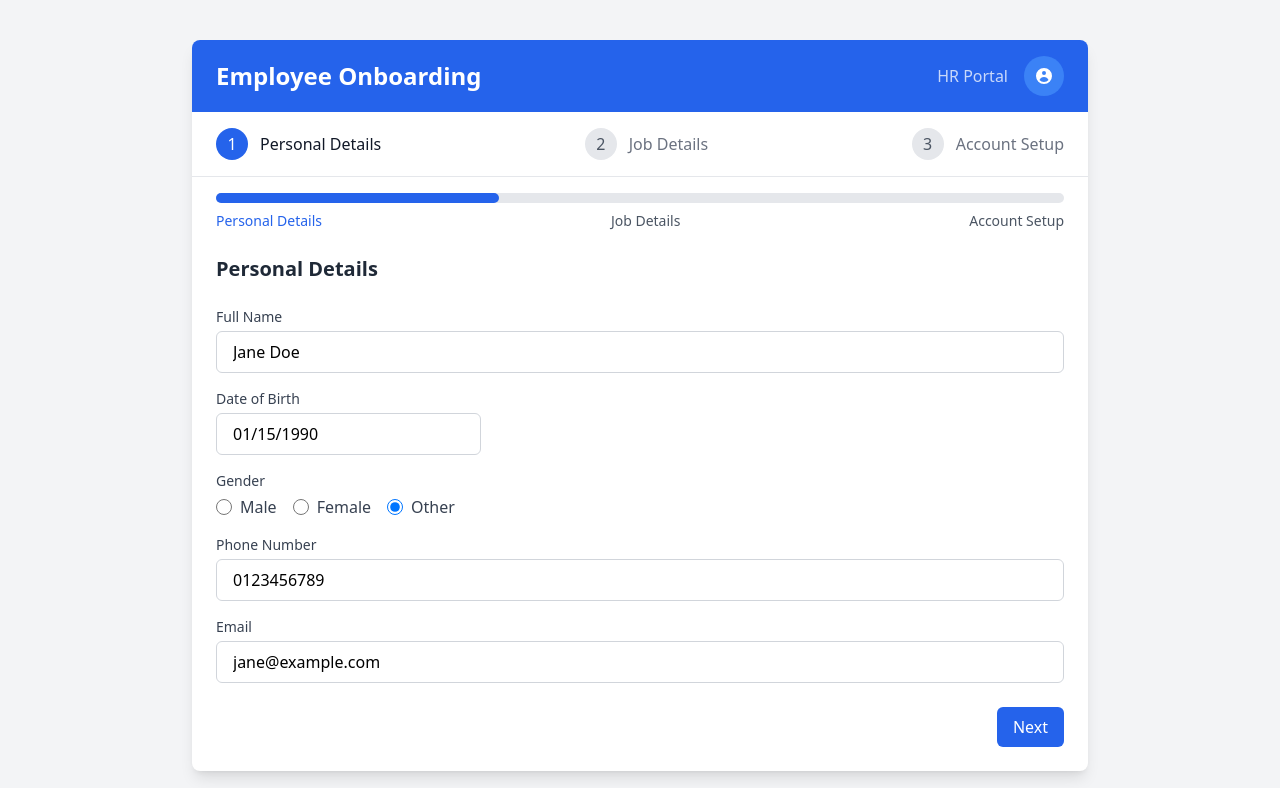
Test case: App submission › sends the account setup fields to the API along with the earlier steps
This screenshot has width=1280, height=788.
Click the button "Next" at (1030, 727), box left=997, top=707, right=1064, bottom=747
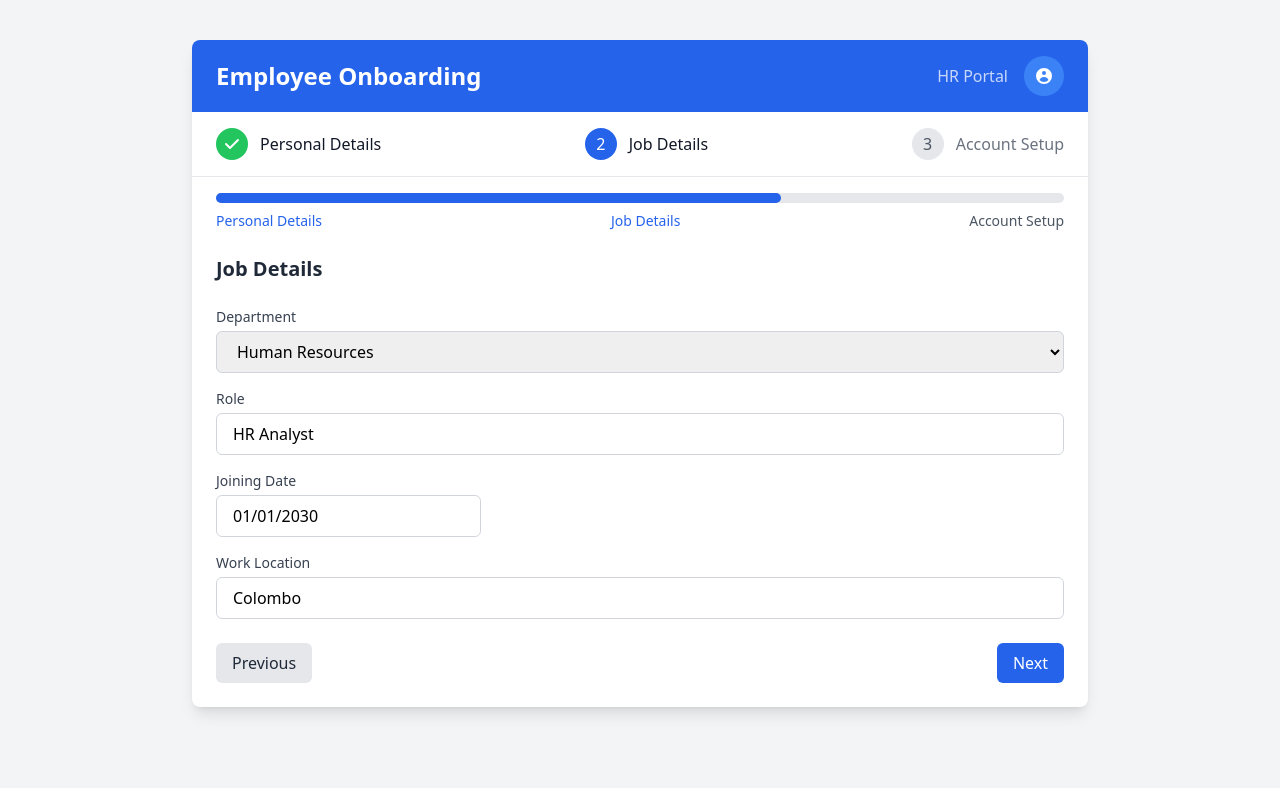
Result: the dropdown labelled "Department" is shown at left=216, top=331, right=1064, bottom=373
Click the button "Next" at (1030, 663), box left=997, top=643, right=1064, bottom=683
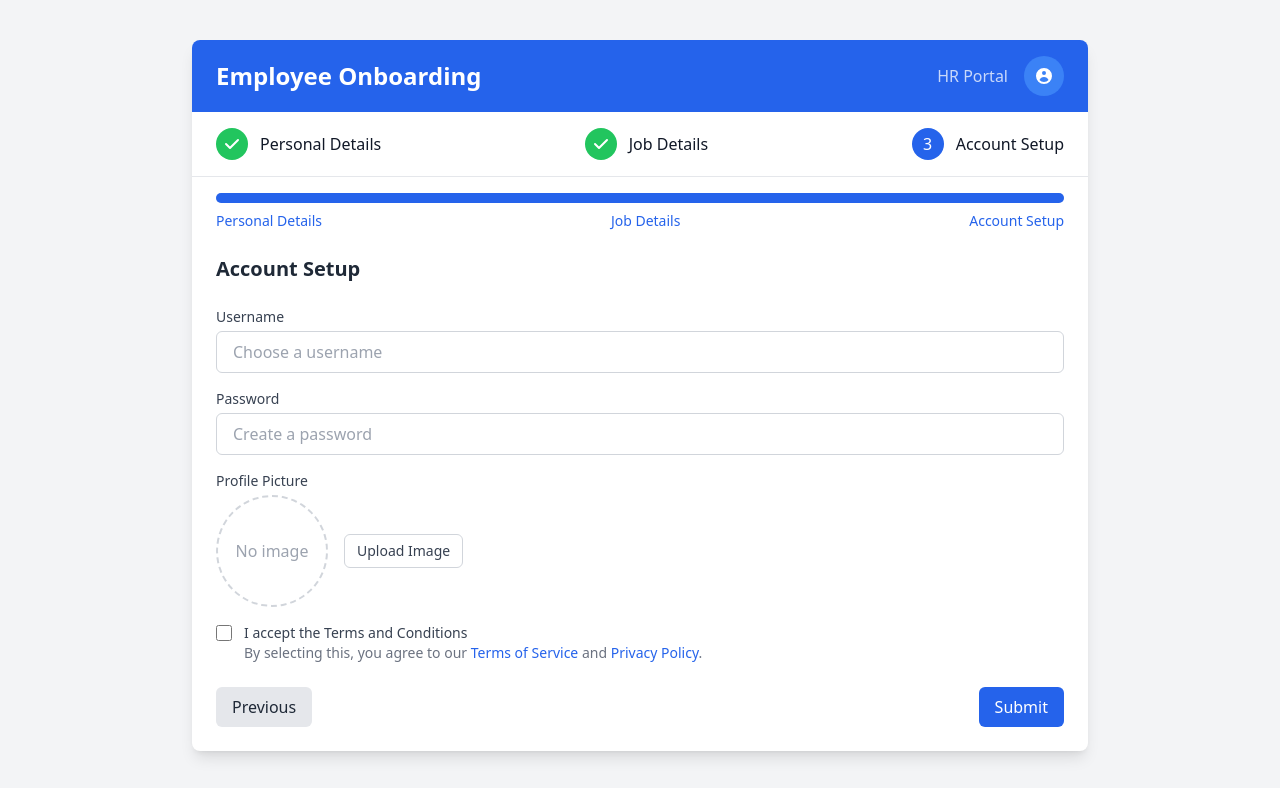
Type "jdoe1" into the field labelled "Username" at (640, 352), box left=216, top=331, right=1064, bottom=373
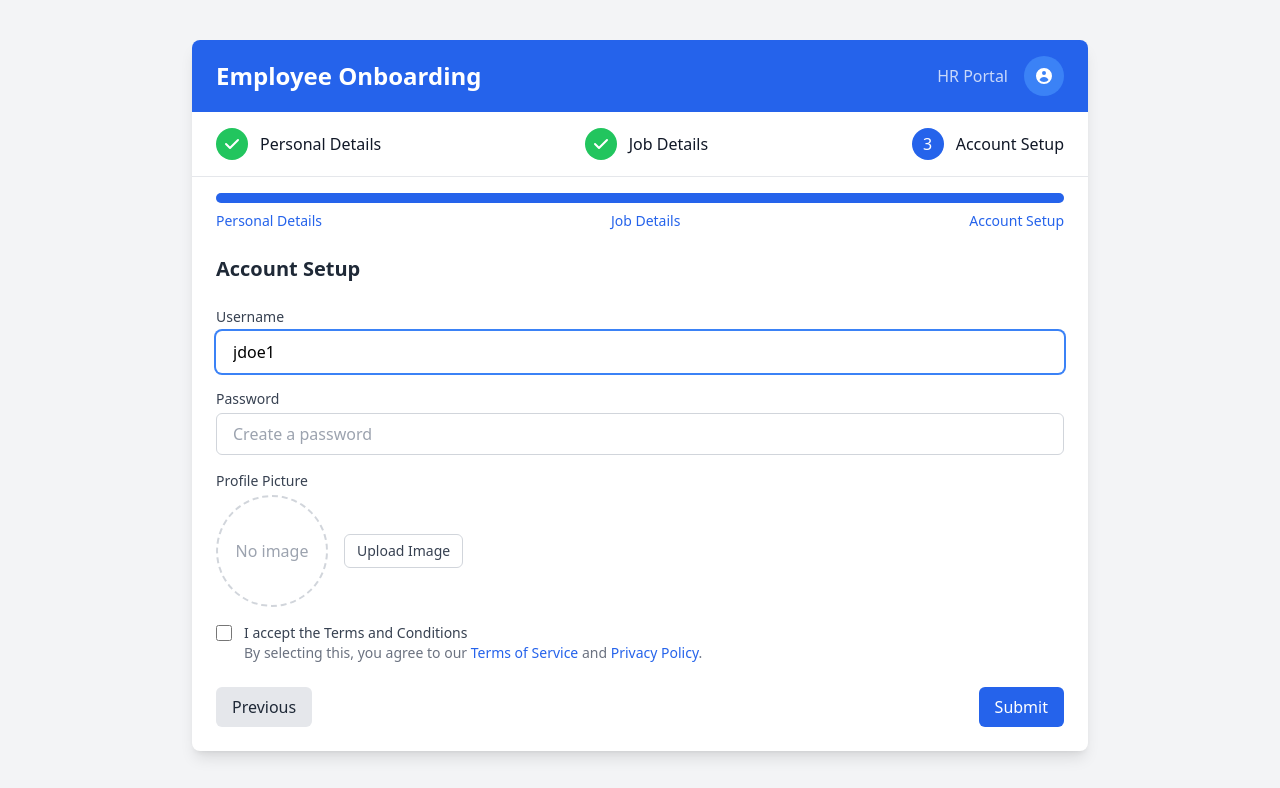
Type "Secret#123" into the password field labelled "Password" at (640, 434), box left=216, top=413, right=1064, bottom=455
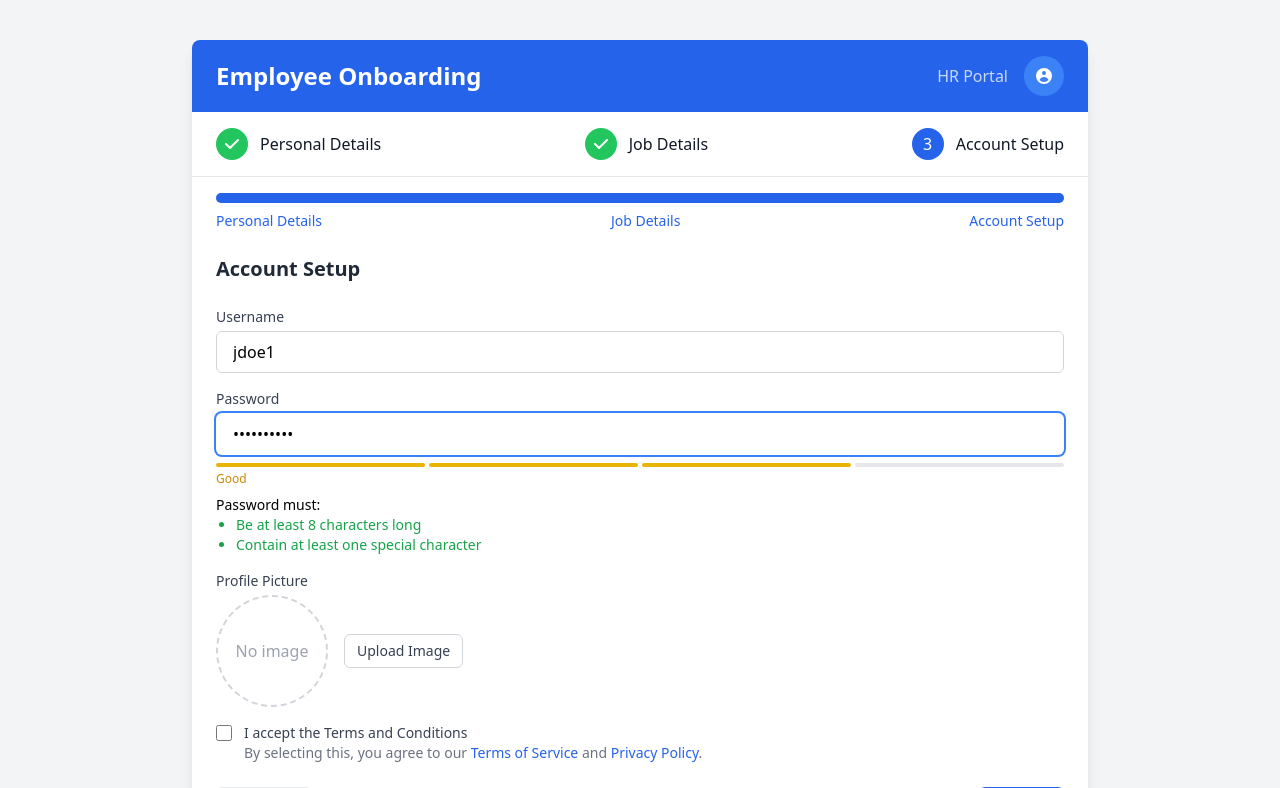
Click the checkbox labelled "I accept the Terms and Conditions" at (224, 733), box left=216, top=725, right=232, bottom=741
(page scrolled)
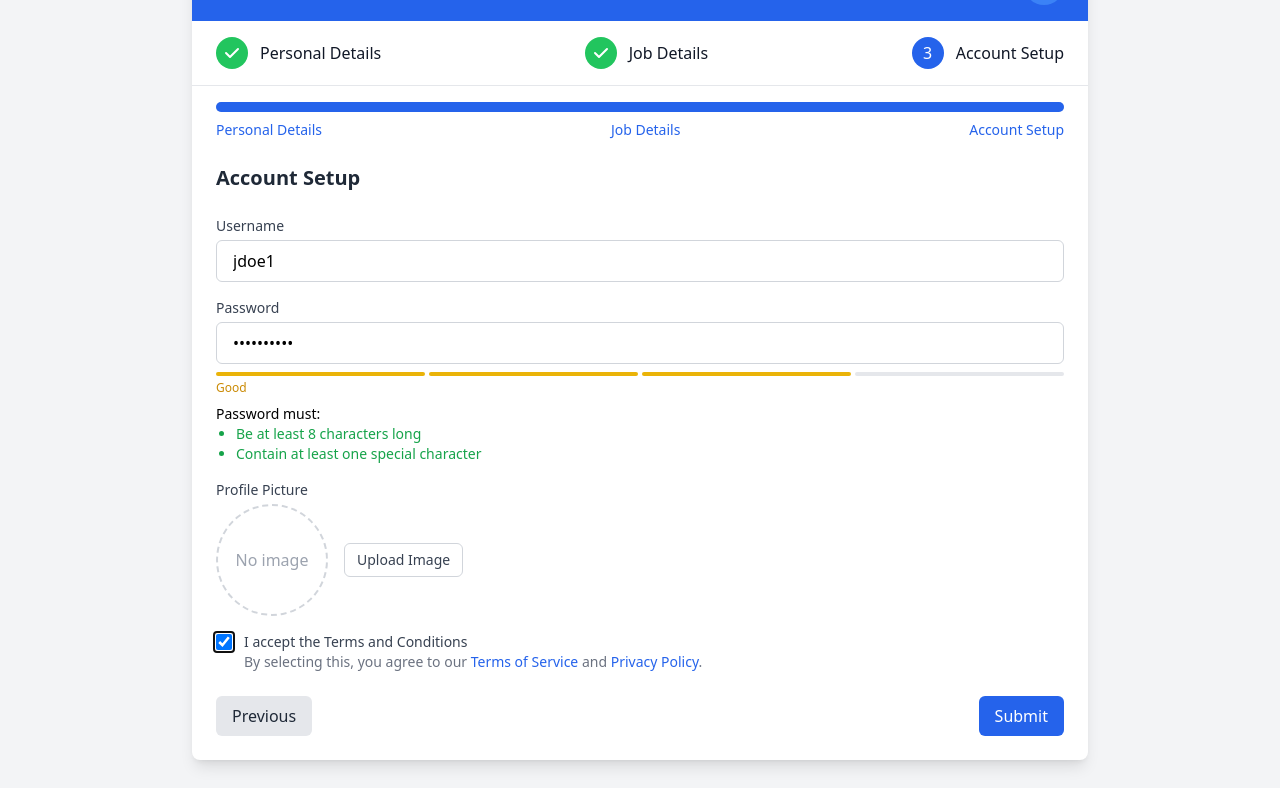
Click the button "Submit" at (1021, 716), box left=979, top=696, right=1064, bottom=736
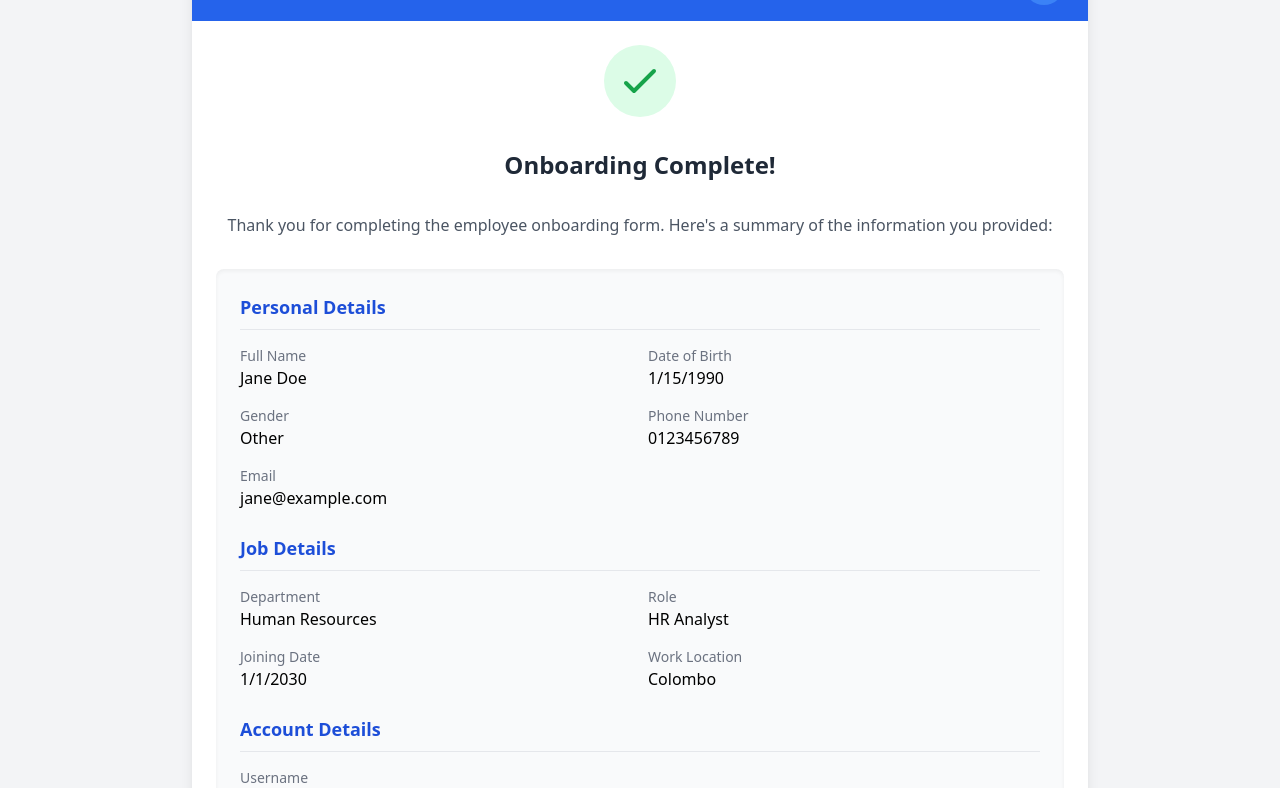
Result: the heading "Onboarding Complete!" is shown at left=504, top=148, right=776, bottom=181
